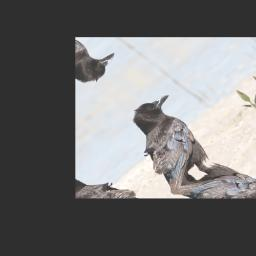Crow: (100, 87, 233, 194)
